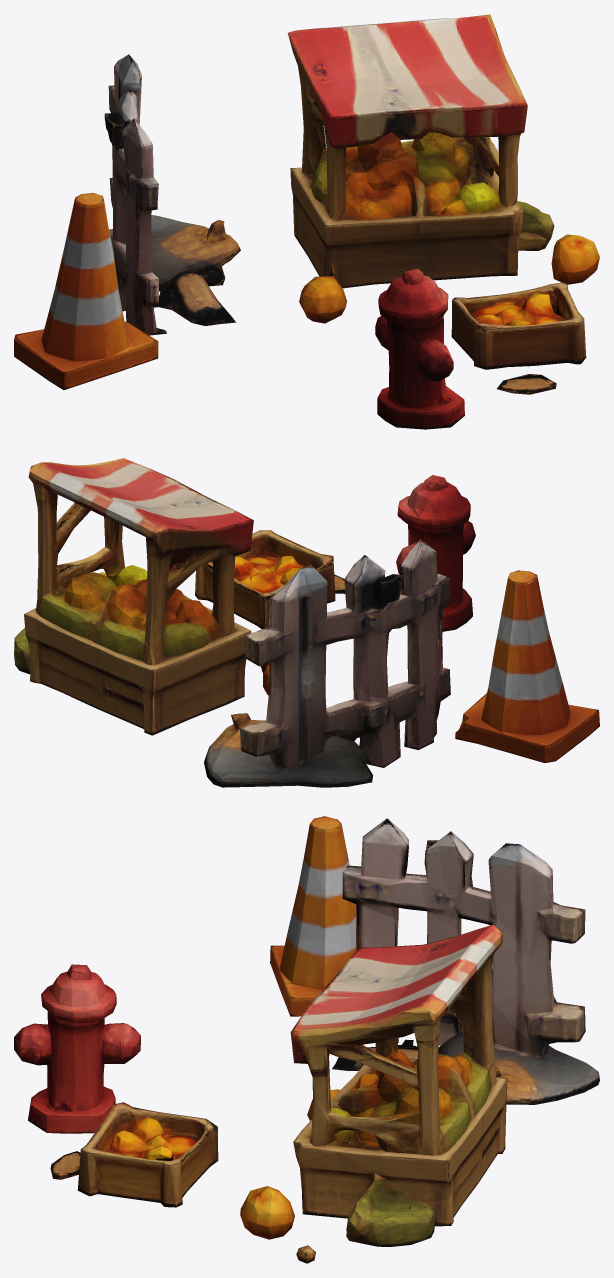
The picture shows the model from 3 angles, top to bottom: view 1: azimuth 30°, elevation 25°; view 2: azimuth 150°, elevation 25°; view 3: azimuth 270°, elevation 25°; orthographic projection. The views are drawn at different scales.
Parts seen in each view (by area): view 1: world; view 2: world; view 3: world.
Part boxes in pixels (x1,y1,x2,y2): world: [14, 14, 599, 429]; world: [14, 458, 599, 787]; world: [14, 816, 599, 1263].
Bounding box in the file's own units: 0.5744 × 0.2273 × 0.5092.
1 material, 1 textured.
